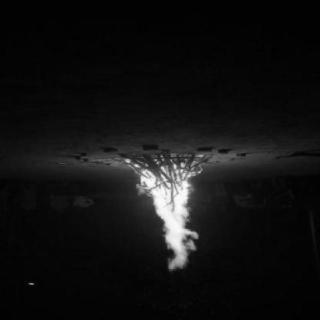Fire: (114, 152, 210, 278)
